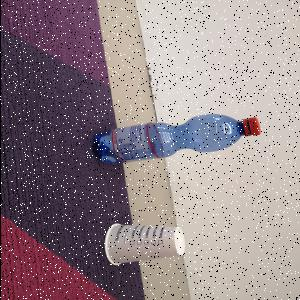Cup: (104, 224, 186, 267)
Plastic-bottle: (92, 115, 262, 166)
